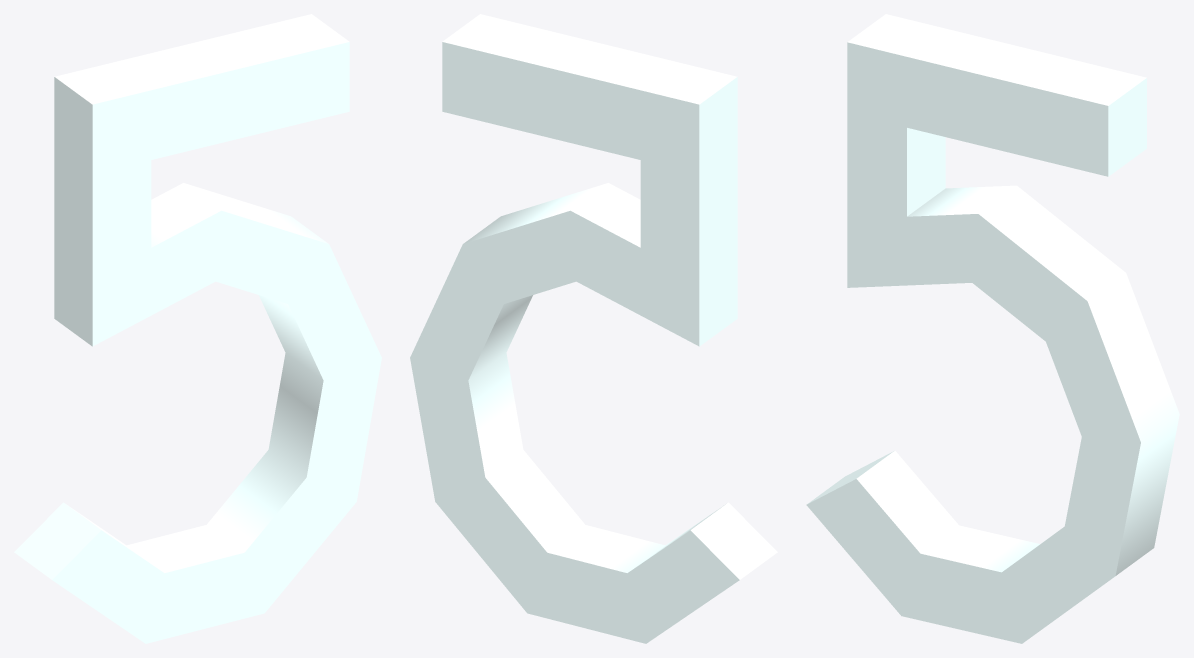
3 renders of one model, left to right at view 1: azimuth 30°, elevation 25°; view 2: azimuth 150°, elevation 25°; view 3: azimuth 330°, elevation 25°, orthographic.
Parts seen in each view (by area): view 1: wall_1_1_1_145_151.001; view 2: wall_1_1_1_145_151.001; view 3: wall_1_1_1_145_151.001.
Boxes of the visible parts, <box> form: wall_1_1_1_145_151.001: <box>14,14,381,643</box>; wall_1_1_1_145_151.001: <box>410,14,777,643</box>; wall_1_1_1_145_151.001: <box>806,14,1179,643</box>.
Bounding box in the file's own units: 3.52 × 5.63 × 0.7034.
